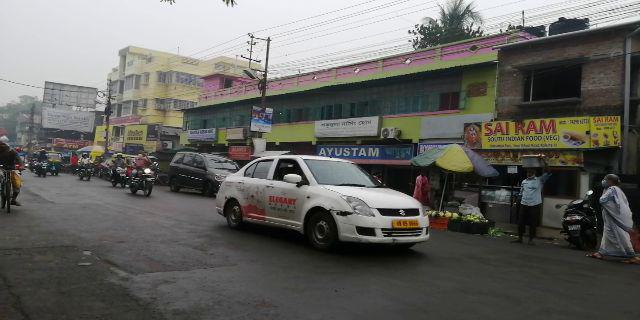Car: (217, 154, 434, 241), (165, 146, 242, 194)
Motorbike: (131, 151, 157, 196)
